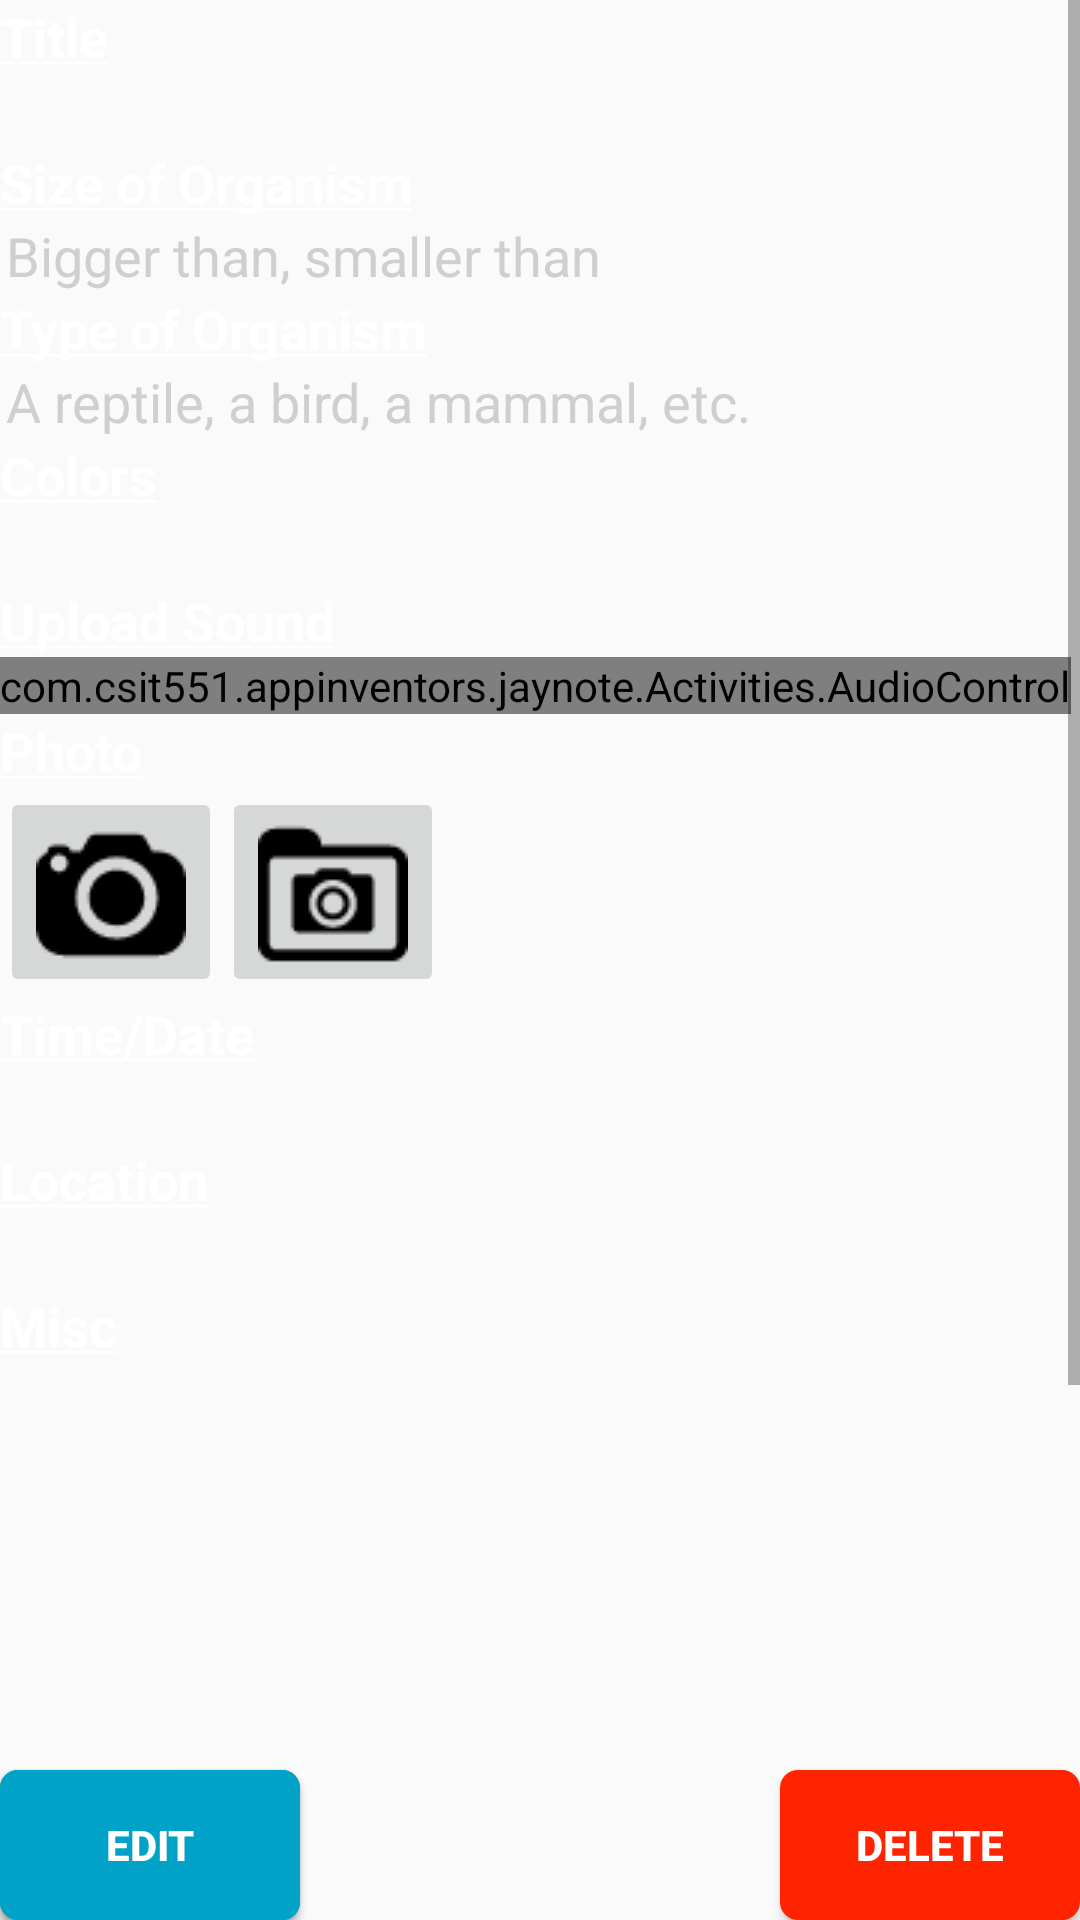

Named icons in this screenshot (1080w x 1920h) and their centers, [x,y]:
folder picture: [333,892]
